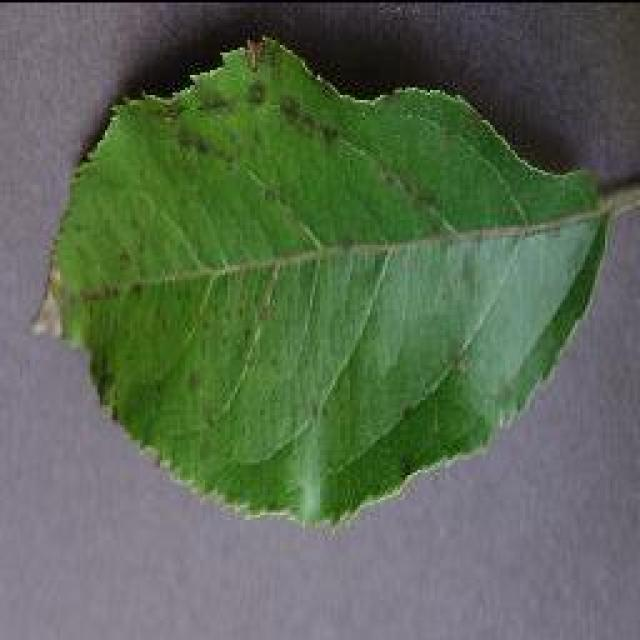apple scab disease: (30, 30, 620, 530)
